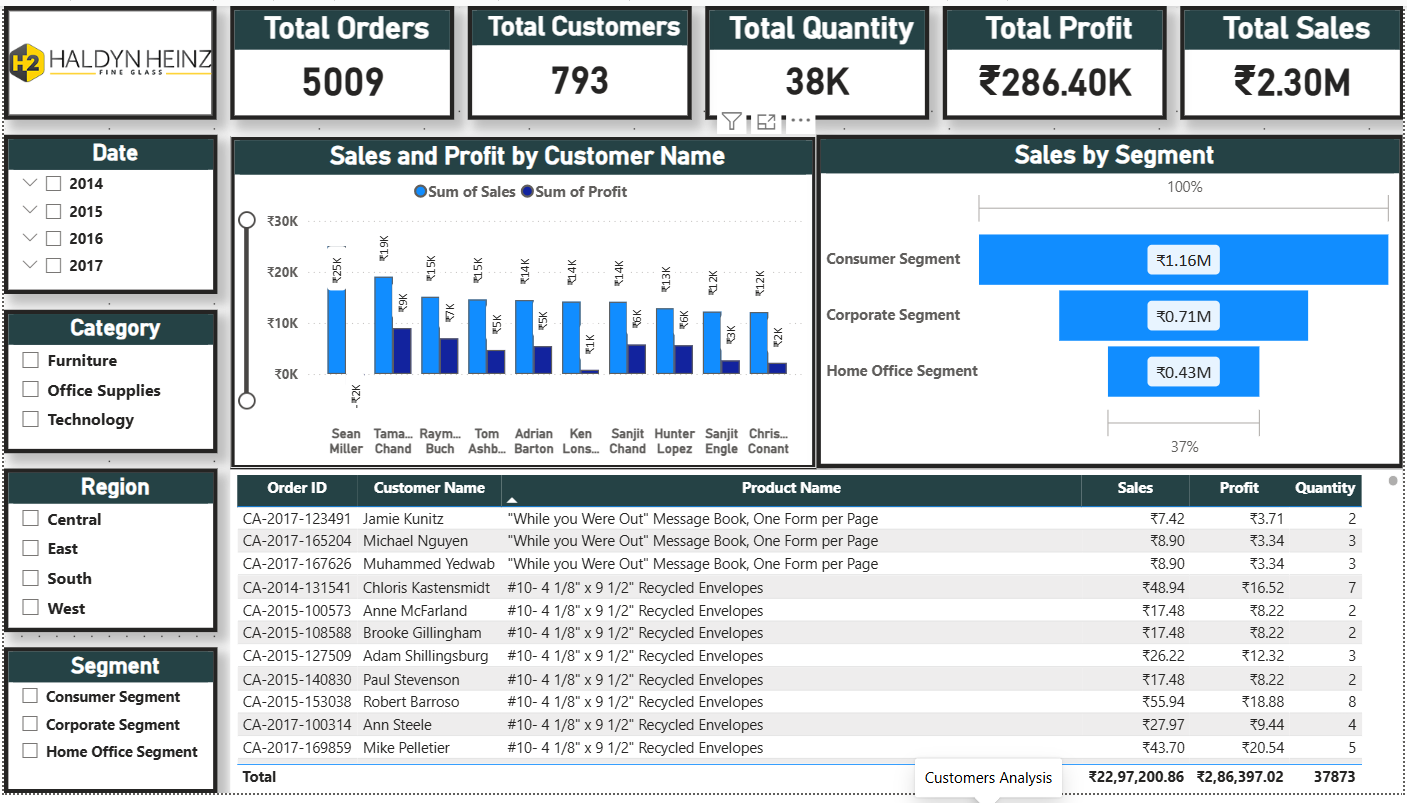

The dashboard page shown, as its layout file describes it:
{"tool":"powerbi","page":{"name":"Customers Analysis","canvas":[1280,720],"ordinal":5},"visuals":[{"type":"image","box":[0,0,194.8,104.3],"z":0},{"type":"cardVisual","title":"Total Sales","fields":{"Data":["Sum(Orders.Sales)"]},"box":[1075,0,205,104.3],"z":1000},{"type":"cardVisual","title":"Total Quantity","fields":{"Data":["Sum(Orders.Quantity)"]},"box":[641.1,0,205,104.3],"z":2000},{"type":"cardVisual","title":"Total Customers","fields":{"Data":["Count(Orders.Customer ID)"]},"box":[424.2,0,205,104.3],"z":3000},{"type":"cardVisual","title":"Total Orders","fields":{"Data":["Count(Orders.Order ID)"]},"box":[207.3,0,205,104.3],"z":4000},{"type":"cardVisual","title":"Total Profit","fields":{"Data":["Sum(Orders.Profit)"]},"box":[858,0,205,104.3],"z":5000},{"type":"slicer","title":"Date","fields":{"Values":["Orders.Order Date.Variation.Date Hierarchy.Year","Orders.Order Date.Variation.Date Hierarchy.Quarter","Orders.Order Date.Variation.Date Hierarchy.Month","Orders.Order Date.Variation.Date Hierarchy.Day"]},"box":[0,118,195.6,145.8],"z":6000},{"type":"slicer","title":"Category","fields":{"Values":["Orders.Category"]},"box":[0,277.8,195.6,131.6],"z":7000},{"type":"slicer","title":"Region","fields":{"Values":["Orders.Region"]},"box":[0,423.3,195.6,149.3],"z":8000},{"type":"slicer","title":"Segment","fields":{"Values":["Orders.Segment"]},"box":[0,586.1,195.6,133.9],"z":9000},{"type":"clusteredColumnChart","title":"Sales and Profit by Customer Name","fields":{"Y":["Sum(Orders.Sales)","Sum(Orders.Profit)"],"Category":["Orders.Customer Name"]},"box":[207.4,118.5,535.7,304.6],"z":10000},{"type":"funnel","title":"Sales by Segment","fields":{"Category":["Orders.Segment"],"Y":["Sum(Orders.Sales)"]},"box":[743,118.3,537,304.7],"z":11000},{"type":"tableEx","fields":{"Values":["Orders.Order ID","Orders.Customer Name","Orders.Product Name","Sum(Orders.Sales)","Sum(Orders.Profit)","Sum(Orders.Quantity)"]},"box":[207.3,424.3,1072.7,295],"z":12000}]}

Visuals, with their boxes in screenshot pixels (x1, y1, x2, y2), scaled from the page's 1280x720 canvas onto the 1407x803 screenshot:
image: [left=0, top=0, right=214, bottom=116]
"Total Sales" cardVisual: [left=1182, top=0, right=1406, bottom=116]
"Total Quantity" cardVisual: [left=705, top=0, right=930, bottom=116]
"Total Customers" cardVisual: [left=466, top=0, right=692, bottom=116]
"Total Orders" cardVisual: [left=228, top=0, right=453, bottom=116]
"Total Profit" cardVisual: [left=943, top=0, right=1168, bottom=116]
"Date" slicer: [left=0, top=132, right=215, bottom=294]
"Category" slicer: [left=0, top=310, right=215, bottom=457]
"Region" slicer: [left=0, top=472, right=215, bottom=639]
"Segment" slicer: [left=0, top=654, right=215, bottom=802]
"Sales and Profit by Customer Name" clusteredColumnChart: [left=228, top=132, right=817, bottom=472]
"Sales by Segment" funnel: [left=817, top=132, right=1406, bottom=472]
tableEx - Orders.Order ID x Orders.Customer Name: [left=228, top=473, right=1406, bottom=802]
